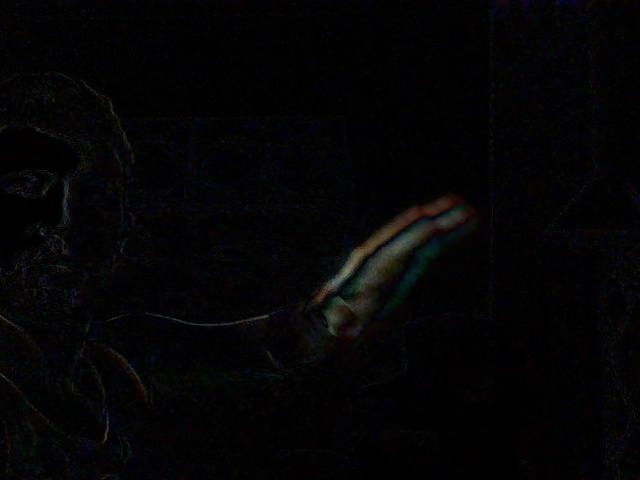hand_pa: (318, 183, 483, 358)
